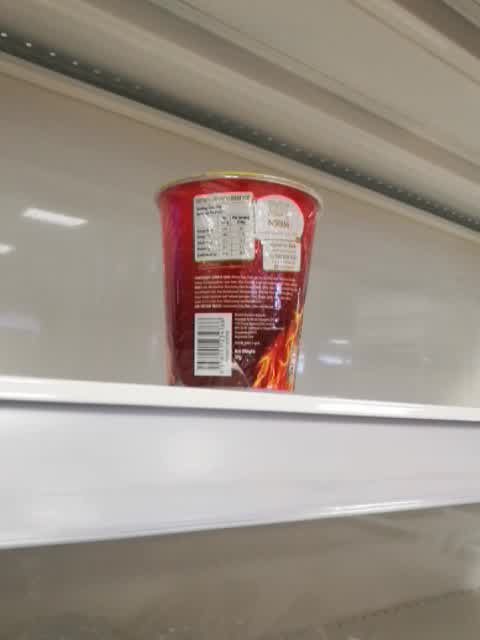maggi: (154, 171, 323, 399)
